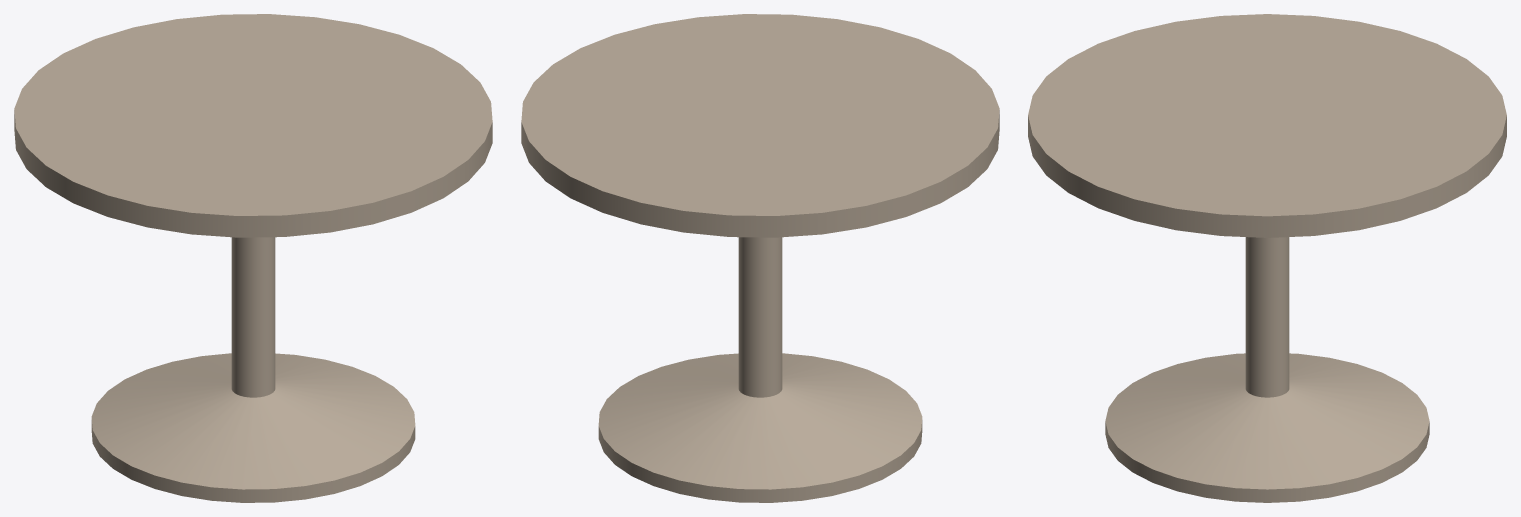
The model's file is TableRonde_7.fbx.
3 renders of one model, left to right at view 1: azimuth 30°, elevation 25°; view 2: azimuth 150°, elevation 25°; view 3: azimuth 270°, elevation 25°, orthographic.
Parts seen in each view (by area): view 1: pCylinder1751; view 2: pCylinder1751; view 3: pCylinder1751.
Part boxes in pixels (bbox=[...]): pCylinder1751: bbox=[14, 14, 492, 502]; pCylinder1751: bbox=[521, 14, 999, 502]; pCylinder1751: bbox=[1028, 14, 1506, 502].
Size of the model in its own units: 50.17 by 36.91 by 50.17.
